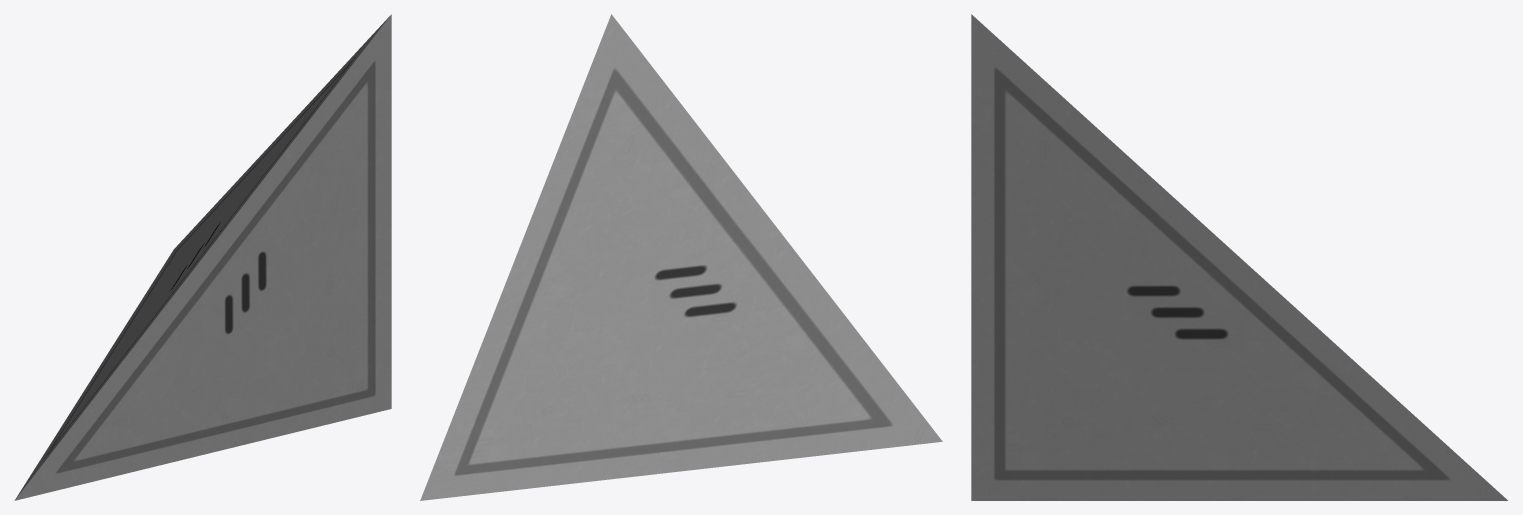
Rendered from LargeBlockArmorHalfSlopeCorner.glb.
3 views of the same model, side by side, from view 1: azimuth 30°, elevation 25°; view 2: azimuth 150°, elevation 25°; view 3: azimuth 270°, elevation 25° (orthographic). The views are drawn at different scales.
Parts seen in each view (by area): view 1: LargeBlockArmorHalfSlopeCorner; view 2: LargeBlockArmorHalfSlopeCorner; view 3: LargeBlockArmorHalfSlopeCorner.
Boxes of the visible parts, x1,y1,x2,y2 form: LargeBlockArmorHalfSlopeCorner: (14,14,391,500); LargeBlockArmorHalfSlopeCorner: (420,14,942,500); LargeBlockArmorHalfSlopeCorner: (971,14,1507,500).
Bounding box in the file's own units: 1.25 × 1.25 × 1.25.
Materials: 1 (1 with a texture image).
